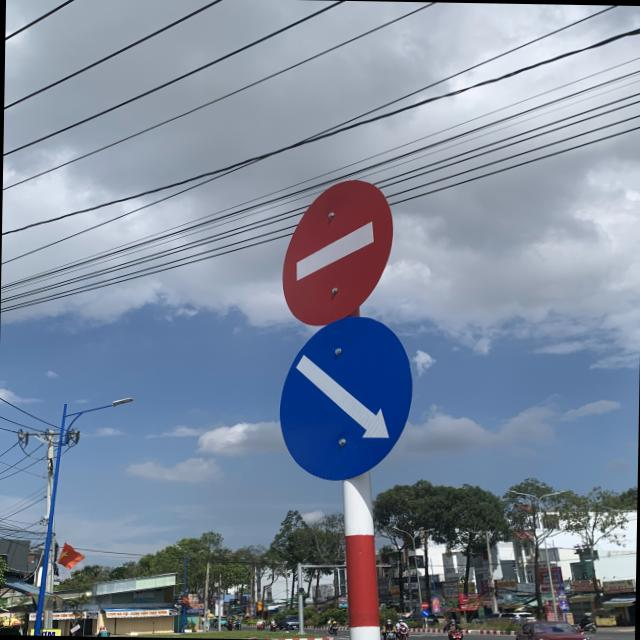Cam_Di_Nguoc_Chieu: (281, 179, 394, 326)
Chi_Huong_Di_Phai: (278, 314, 416, 478)
